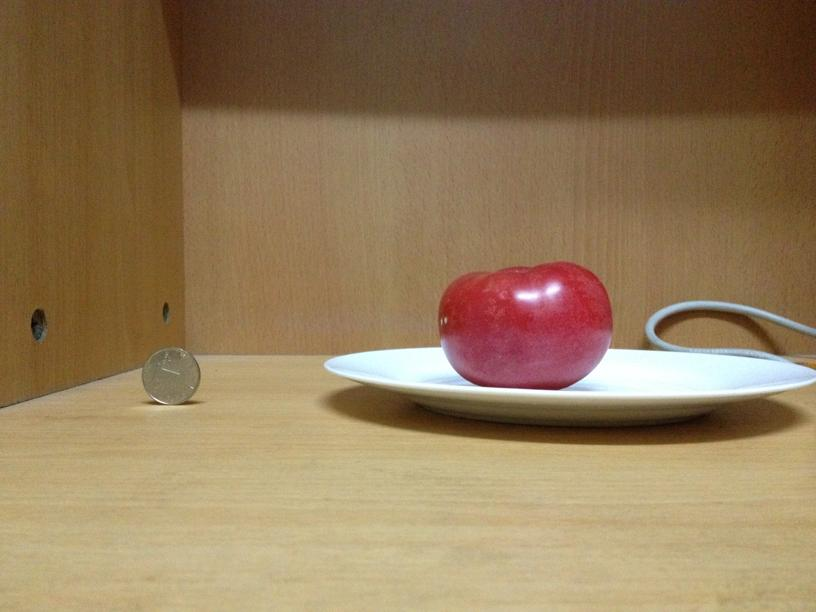coin: (142, 347, 201, 404)
tomato: (438, 262, 611, 389)
